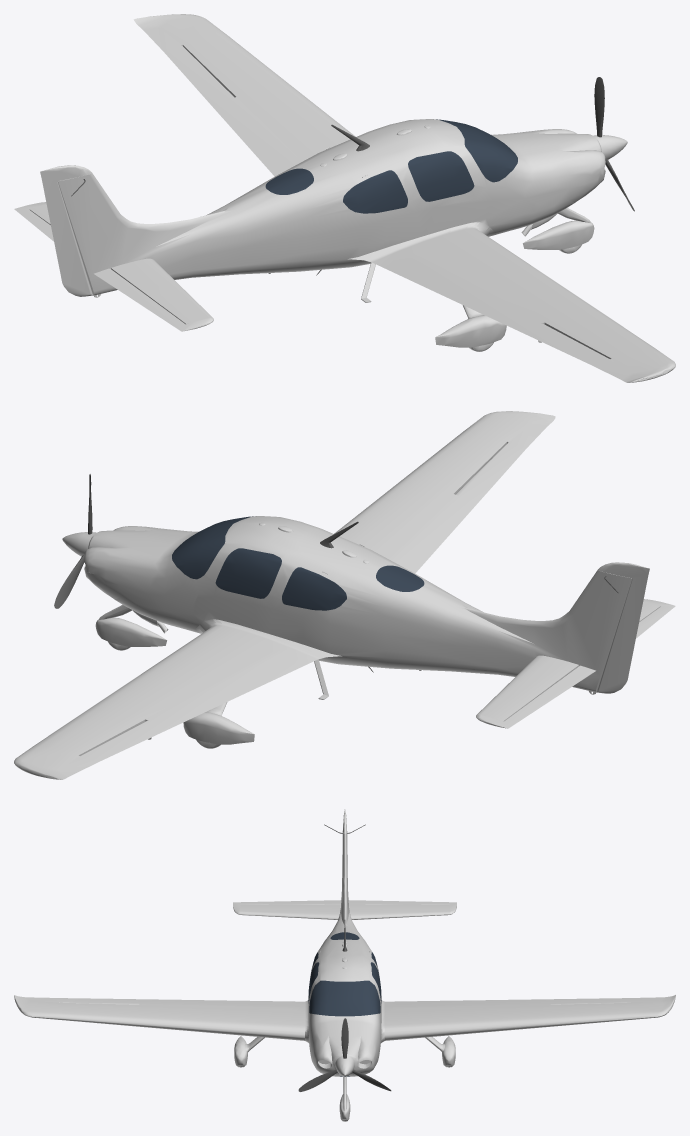
The picture shows the model from 3 angles, top to bottom: view 1: azimuth 30°, elevation 25°; view 2: azimuth 150°, elevation 25°; view 3: azimuth 270°, elevation 25°; orthographic projection. The views are drawn at different scales.
Visible parts, largest first — view 1: body, glass, spin; view 2: body, glass, spin; view 3: body, glass, spin.
Part boxes in pixels (<box>): body: <box>14,14,675,382</box>; glass: <box>265,119,517,213</box>; spin: <box>594,77,634,211</box>; body: <box>14,411,675,779</box>; glass: <box>172,516,424,610</box>; spin: <box>54,474,92,608</box>; body: <box>14,809,675,1121</box>; glass: <box>308,932,381,1076</box>; spin: <box>298,1018,391,1091</box>.
Bounding box in the file's own units: 1.5 × 0.5156 × 2.2.
